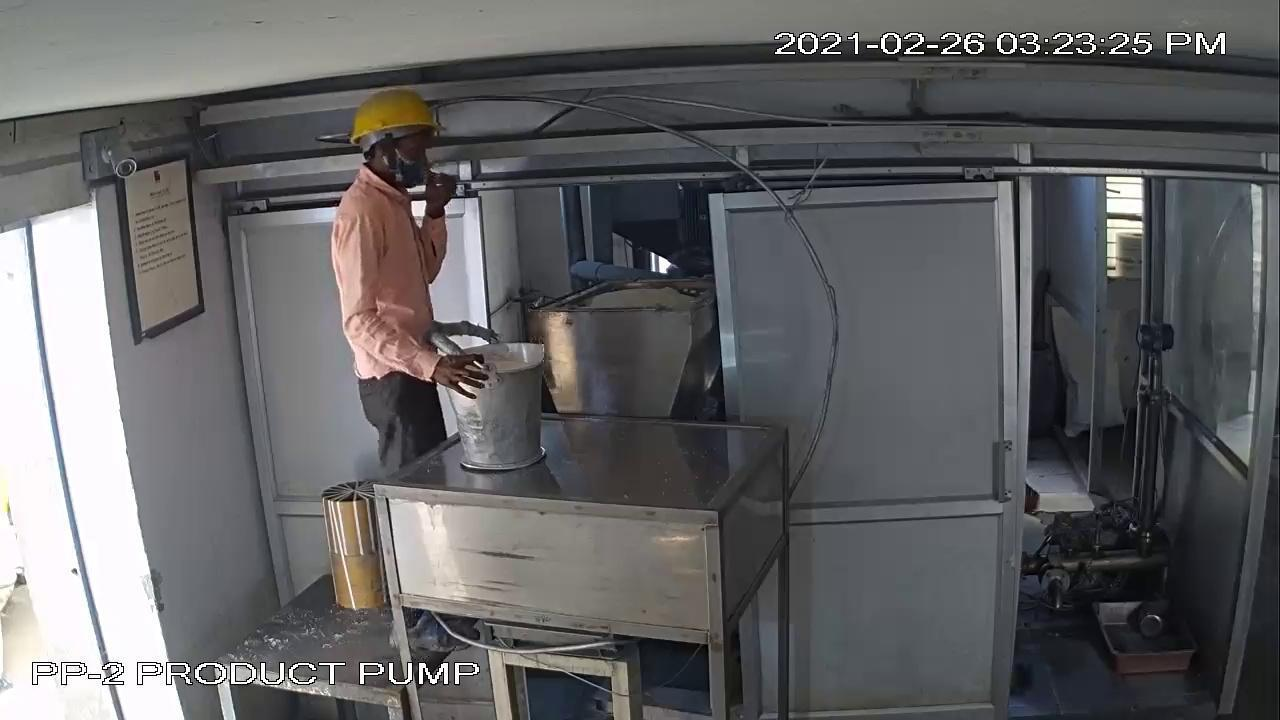helmet: (342, 88, 446, 148)
